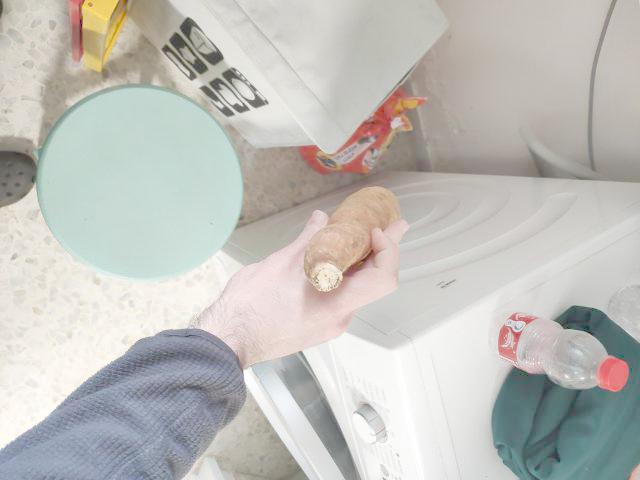sweet_potato: (291, 189, 411, 302)
